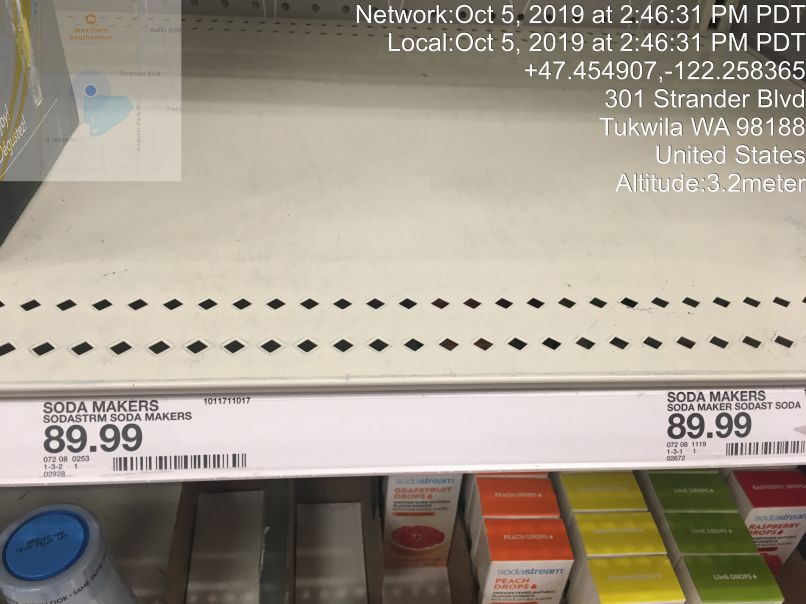Label: (24, 391, 264, 478), (652, 383, 803, 471)
Location: (593, 83, 806, 171)
Time: (344, 1, 806, 57)
Void: (88, 37, 766, 326)
